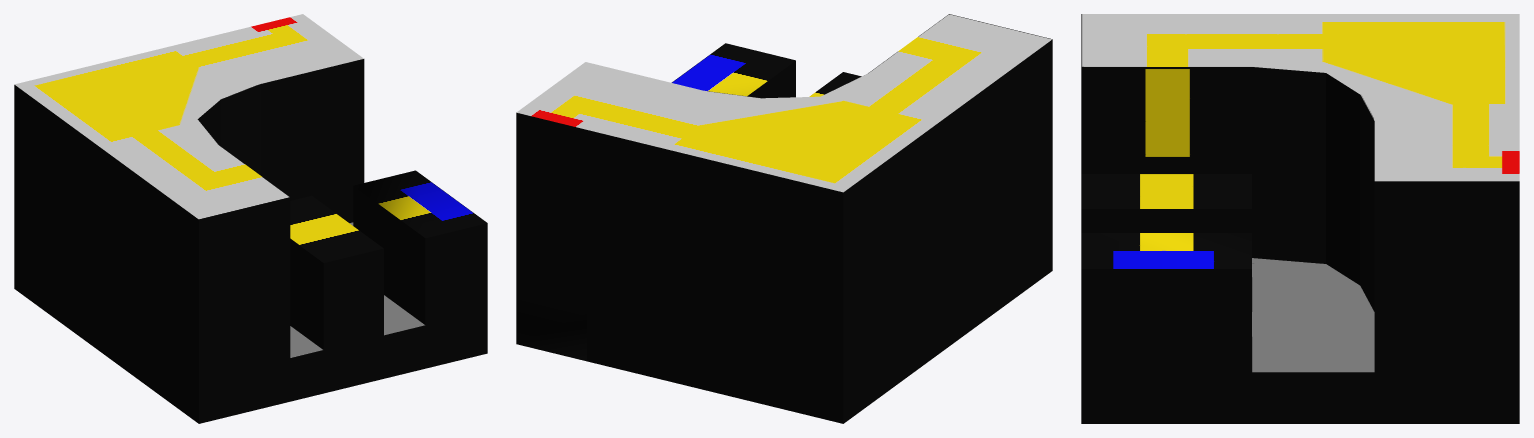
File: Lv3_Pathed(WIP).fbx
The picture shows the model from 3 angles, left to right: view 1: azimuth 30°, elevation 25°; view 2: azimuth 150°, elevation 25°; view 3: azimuth 270°, elevation 25°; orthographic projection. The views are drawn at different scales.
Visible parts, largest first — view 1: BoxBrush; view 2: BoxBrush; view 3: BoxBrush.
Boxes of the visible parts, x1,y1,x2,y2 form: BoxBrush: (14,14,487,423); BoxBrush: (516,14,1052,423); BoxBrush: (1081,14,1519,423).
Size of the model in its own units: 1390 by 940 by 1540.
Materials: 1 (1 with a texture image).
